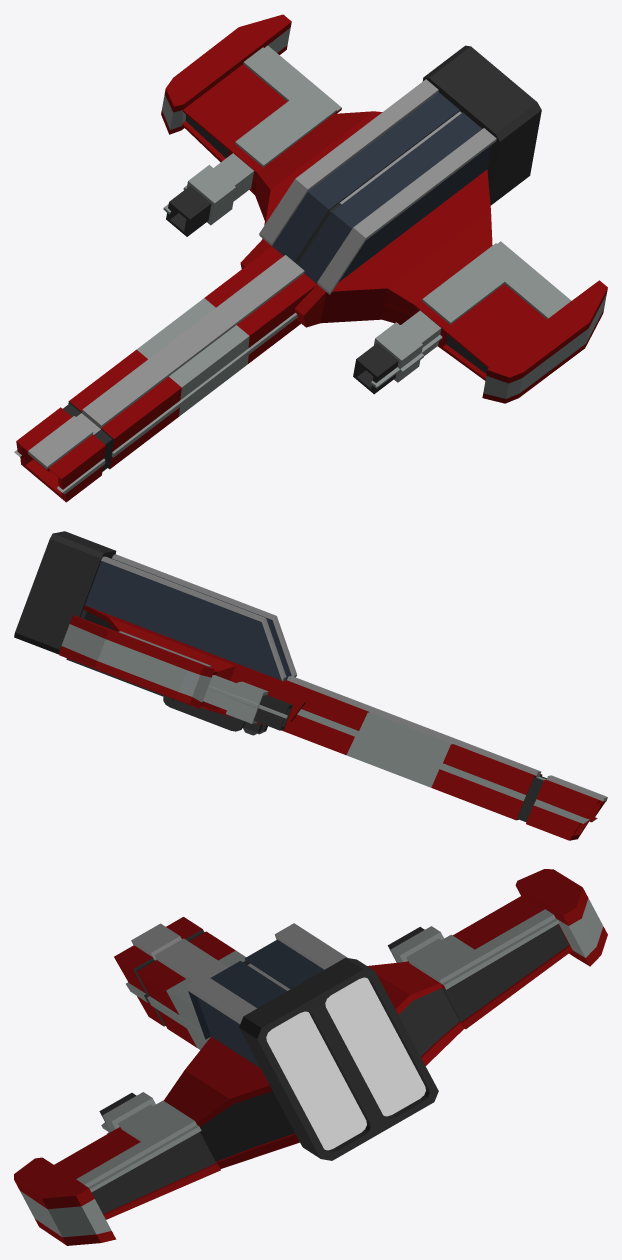
File: low-poly-spaceship.fbx
3 renders of one model, top to bottom at view 1: azimuth 30°, elevation 25°; view 2: azimuth 150°, elevation 25°; view 3: azimuth 270°, elevation 25°, orthographic. The views are drawn at different scales.
Visible parts, largest first — view 1: Cube; view 2: Cube; view 3: Cube.
Part boxes in pixels (box(x1,y1,x2,y2)): Cube: box(14, 14, 607, 502); Cube: box(14, 531, 607, 840); Cube: box(14, 869, 607, 1245).
Size of the model in its own units: 2298 by 1066 by 1627.
